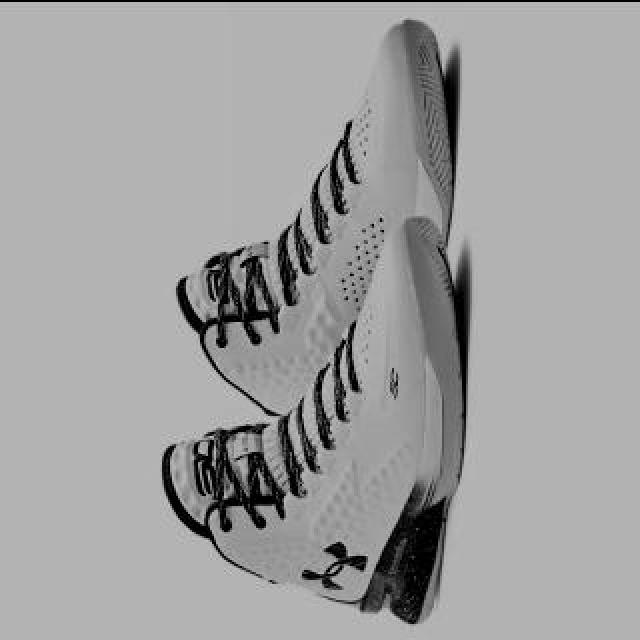shoe: (160, 217, 466, 625), (175, 19, 455, 451)
